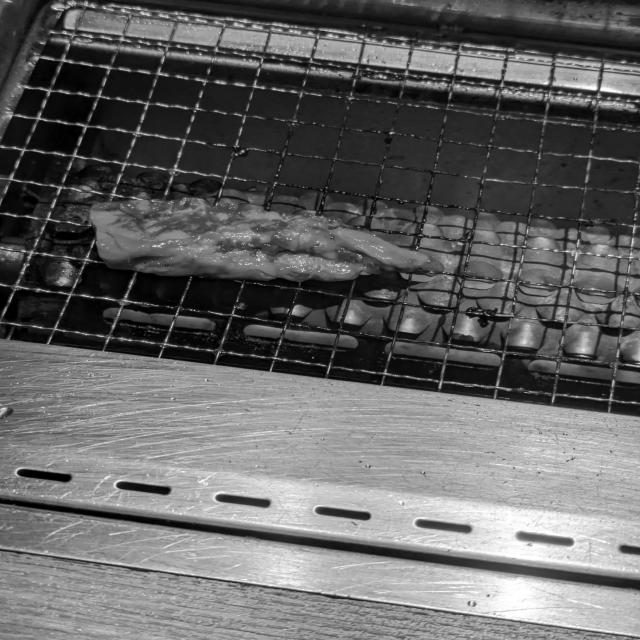NG raw beef,: (82, 190, 445, 295)
